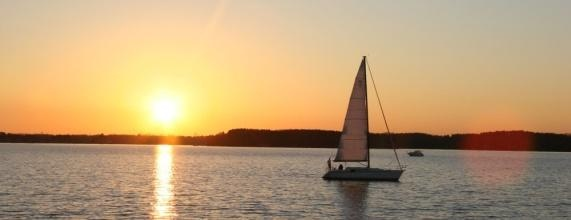fanchuan: (321, 51, 407, 186)
